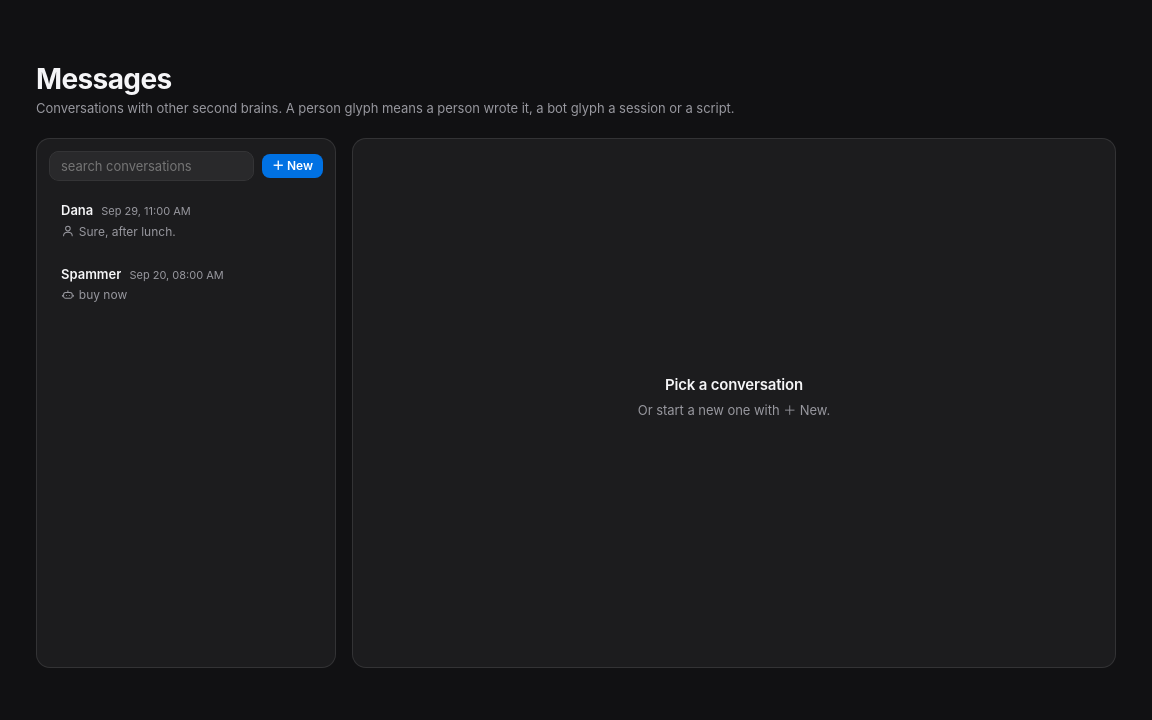
Scenario: Messages › starts a new conversation with a connected peer
Expected: the list named "conversation list" is shown, [49, 189, 323, 316]
Click the button "＋ New". click: point(292, 166)
box: [262, 154, 323, 178]
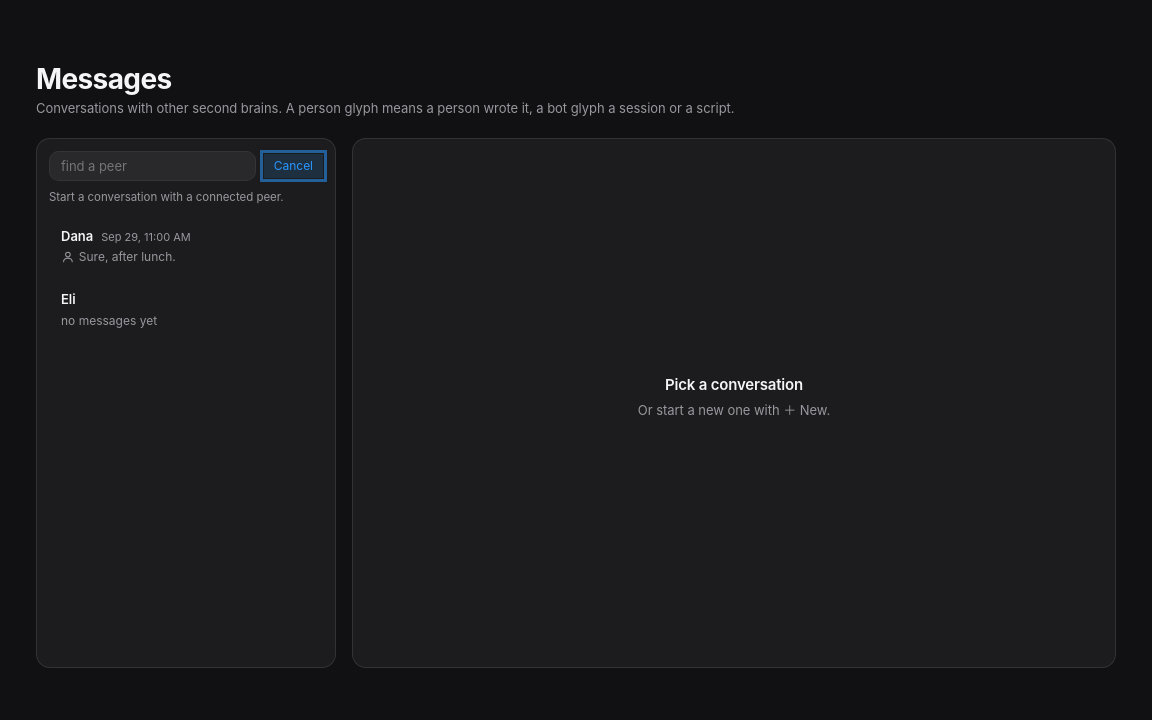
Expected: the button "Spammer" is gone
Click the text "Eli". click: point(68, 300)
box: [61, 290, 76, 310]
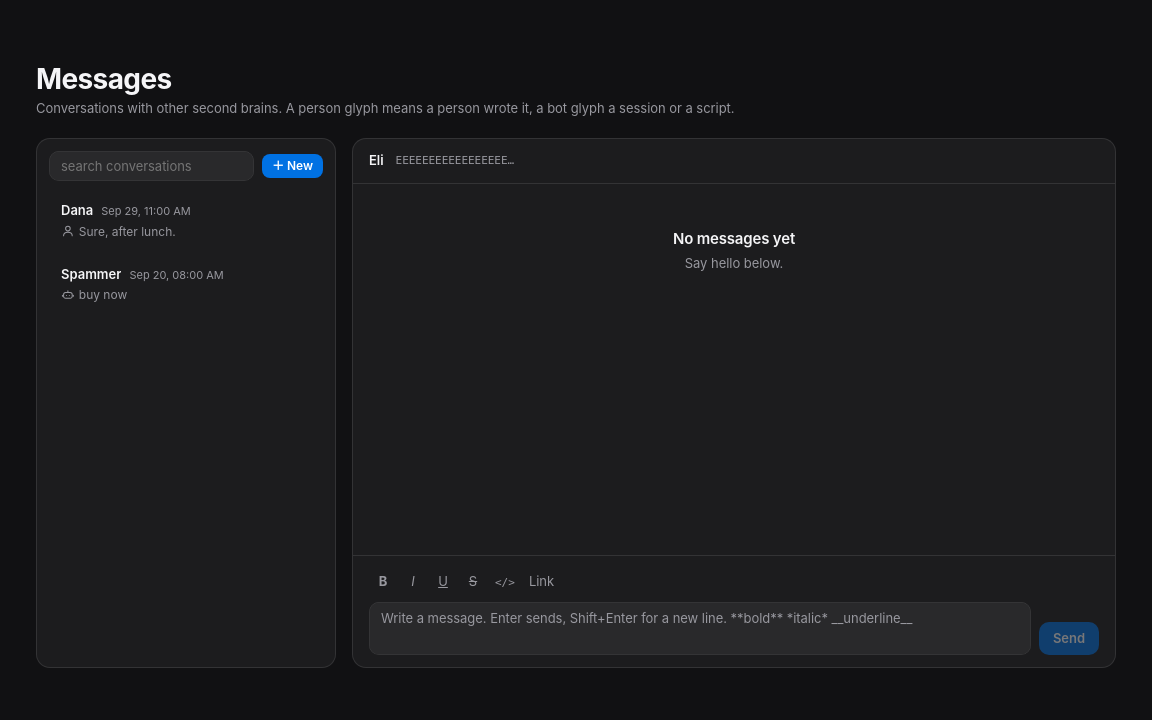
Expected: the text "No messages yet" is shown, [673, 229, 795, 248]
Expected: the text box labelled "message" is enabled, [369, 602, 1031, 655]
